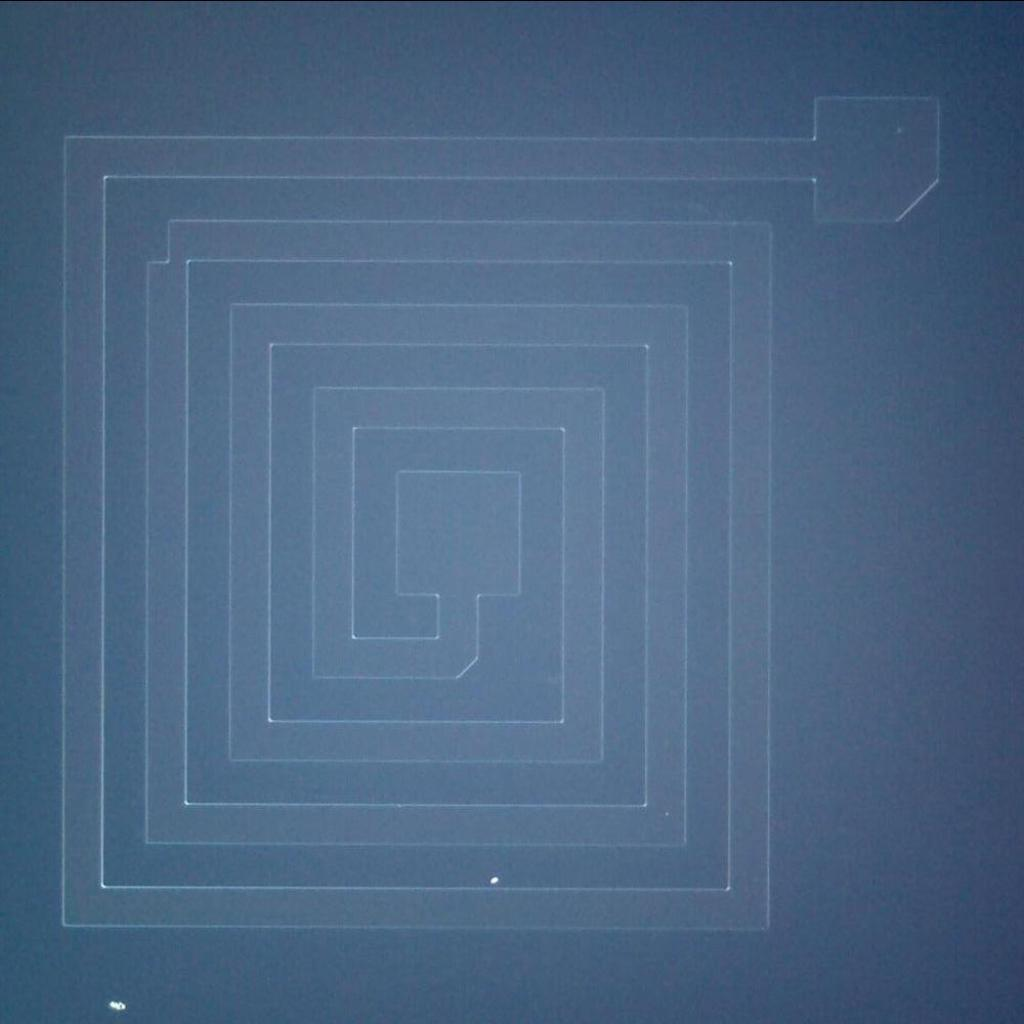dot: (478, 859, 512, 894)
edge circuit: (881, 167, 946, 229), (137, 210, 181, 275), (445, 644, 496, 690)
spot: (100, 995, 133, 1016)
